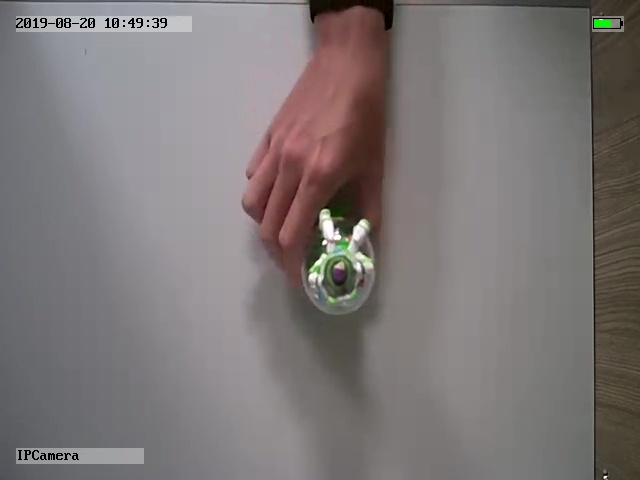buzz: (299, 205, 379, 319)
